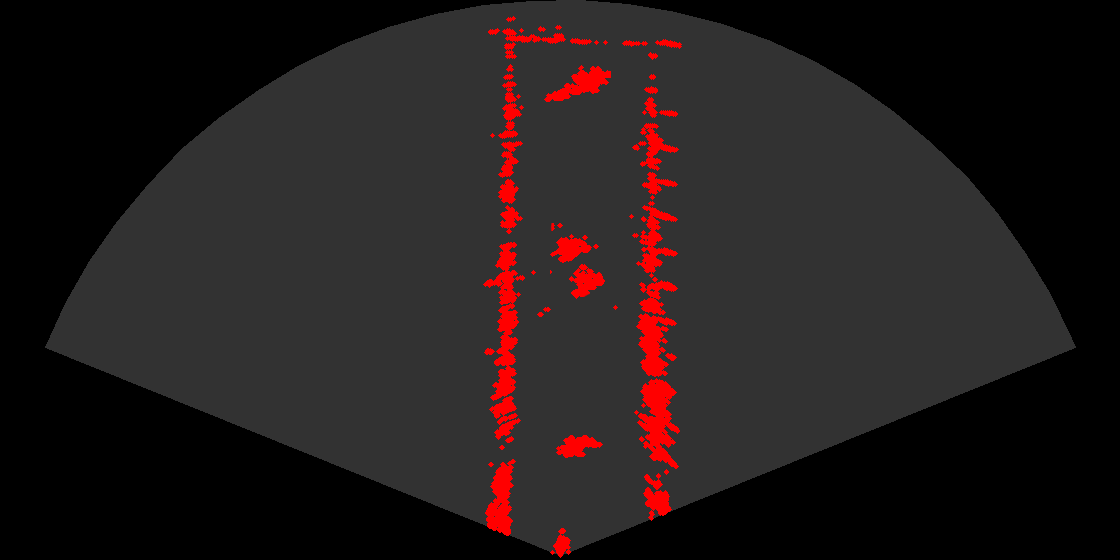AUV: (550, 433, 606, 465)
cage: (550, 223, 613, 307)
frogman: (543, 59, 611, 106)
